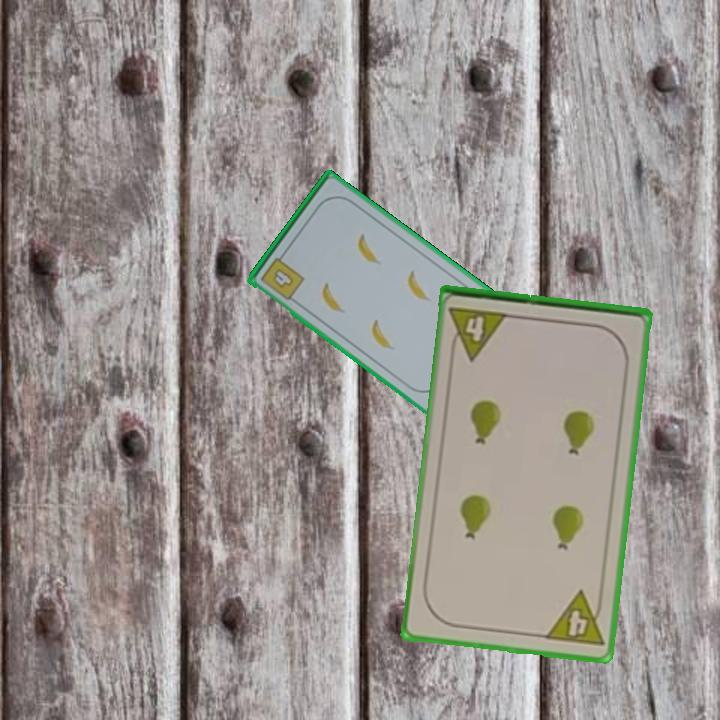4b: (257, 249, 307, 303)
4p: (541, 587, 607, 650), (446, 303, 511, 363)
